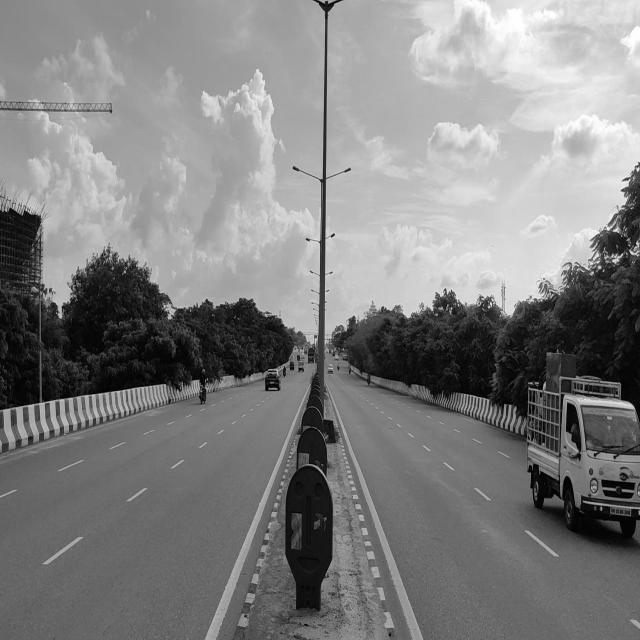bike: (184, 352, 219, 416)
car: (254, 361, 294, 405)
truck: (497, 315, 640, 549)
